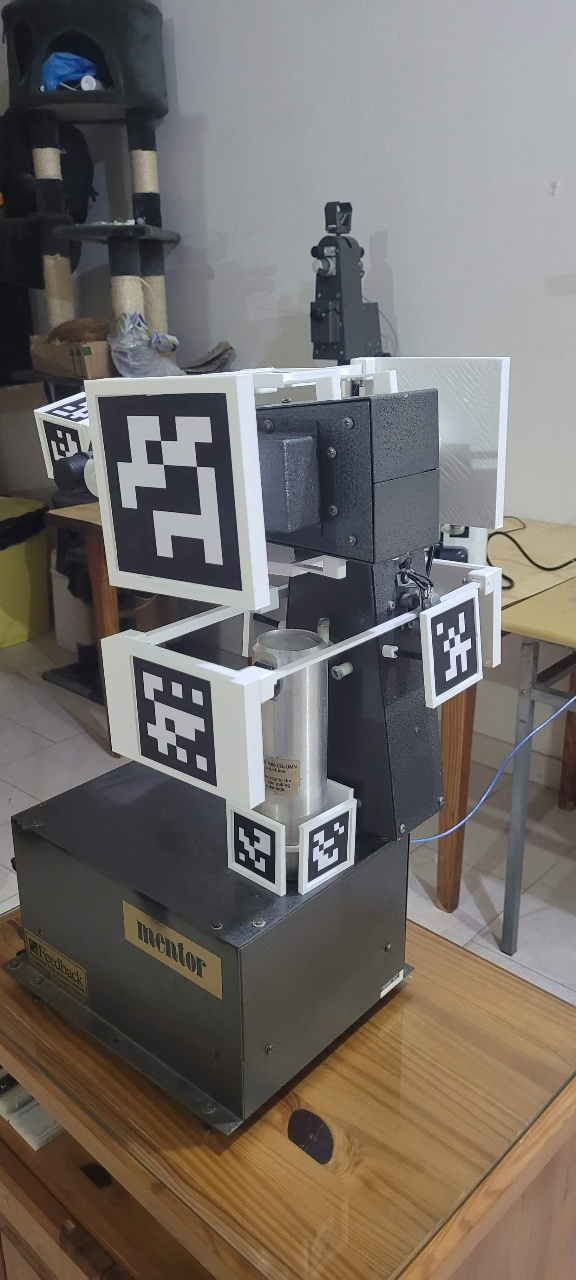Robot: (48, 300, 489, 969)
